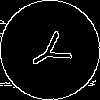Y: (25, 25, 82, 77)
